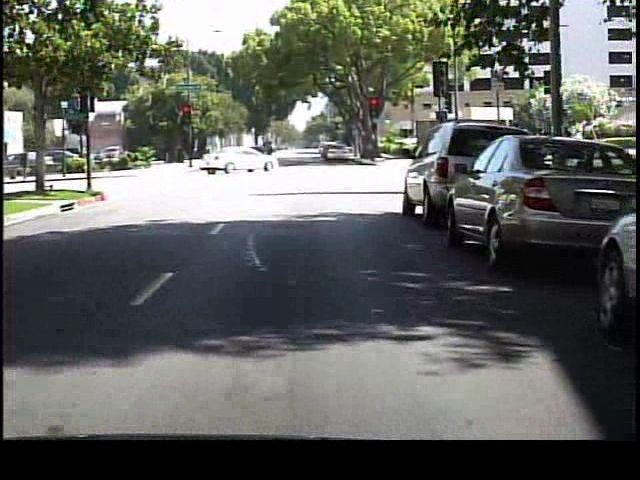person: (265, 140, 281, 171)
